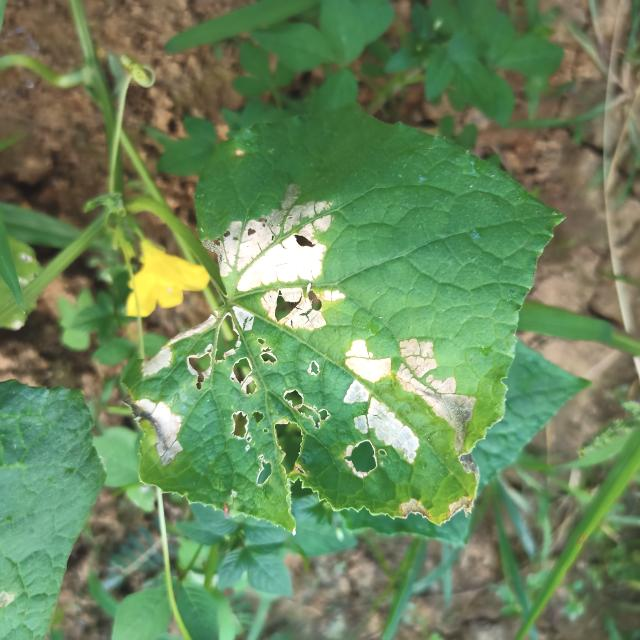disease_cucumber: (136, 284, 486, 520), (205, 193, 352, 336)
